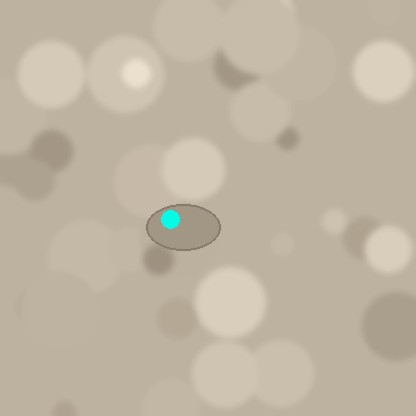gota: (146, 206, 220, 254)
